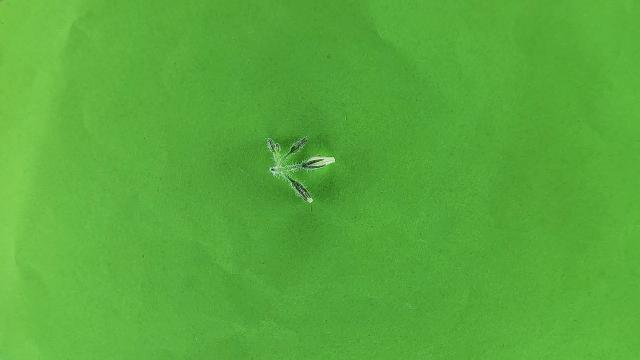Flower Bud: (285, 175, 313, 204), (283, 136, 308, 160), (300, 155, 336, 169), (267, 138, 279, 151)
